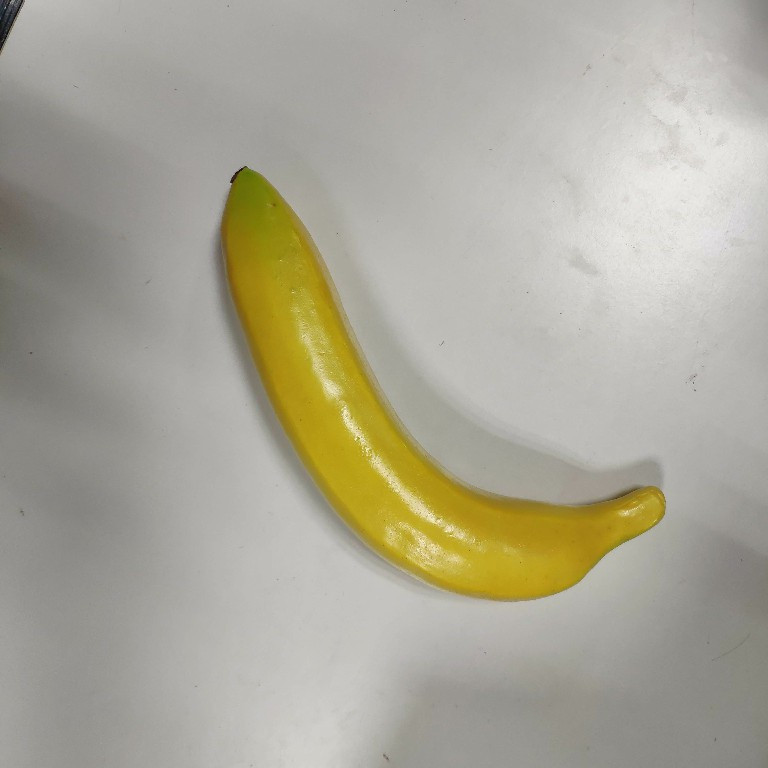fruit_banana: (214, 164, 670, 604)
